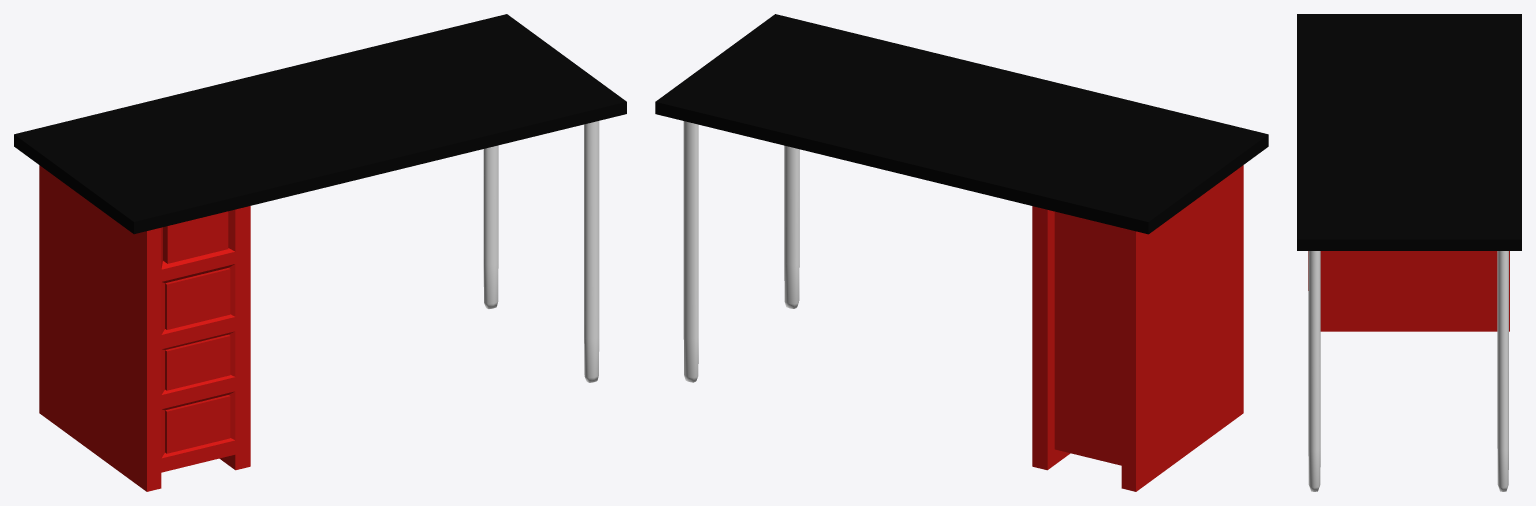
Rendered from Desk3.fbx.
3 renders of one model, left to right at view 1: azimuth 30°, elevation 25°; view 2: azimuth 150°, elevation 25°; view 3: azimuth 270°, elevation 25°, orthographic. The views are drawn at different scales.
Visible parts, largest first — view 1: Cube, Cube.002, Cube.001; view 2: Cube, Cube.002, Cube.001; view 3: Cube, Cube.002, Cube.001.
Boxes of the visible parts, bbox=[...] form: Cube: bbox=[14, 14, 626, 234]; Cube.002: bbox=[39, 165, 250, 491]; Cube.001: bbox=[483, 121, 599, 382]; Cube: bbox=[655, 14, 1268, 234]; Cube.002: bbox=[1032, 165, 1243, 491]; Cube.001: bbox=[683, 121, 799, 382]; Cube: bbox=[1297, 14, 1521, 250]; Cube.002: bbox=[1308, 251, 1509, 331]; Cube.001: bbox=[1308, 251, 1508, 491].
Size of the model in its own units: 143 by 77.32 by 60.14.
